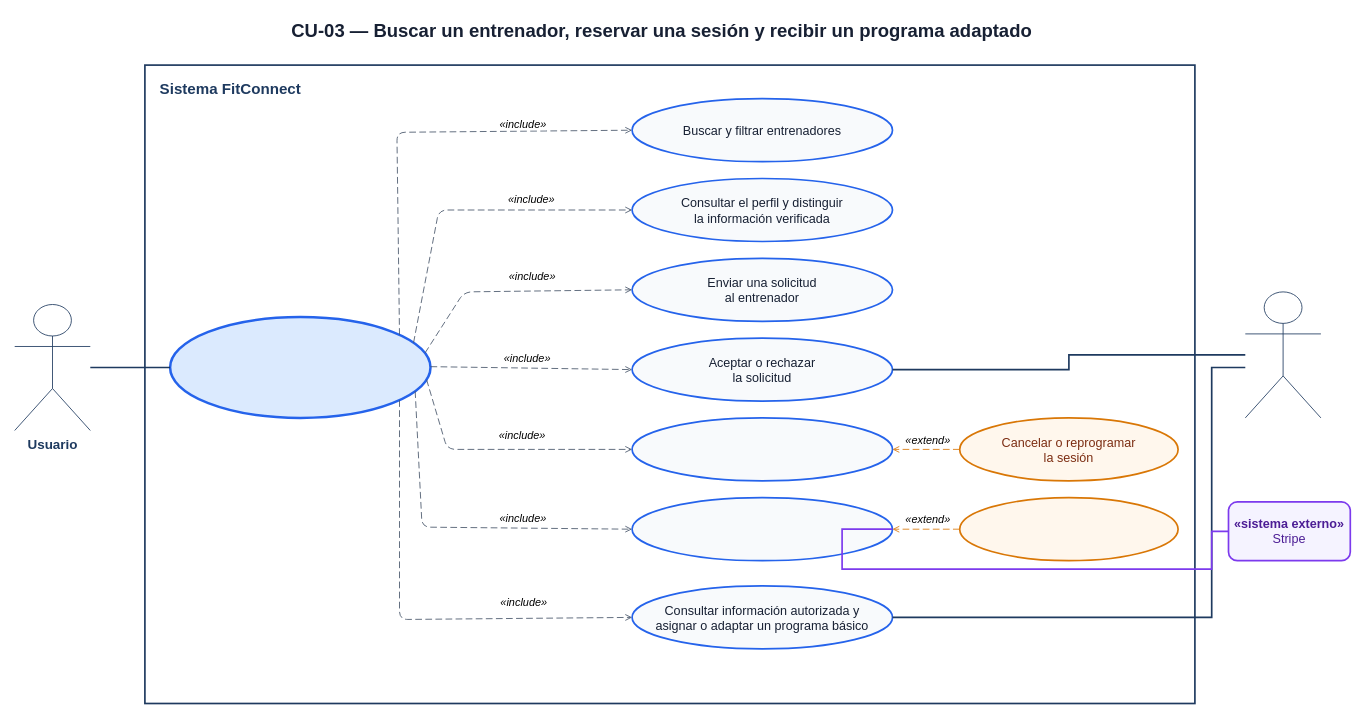
The diagram is 1366 pixels wide and 718 high, and some of its shapes have lost their labels. Here are the shapes that lost their labels. From the top down, the box of each, then its label:
(168, 315, 431, 419): Buscar un entrenador, reservar una sesión y recibir un programa adaptado
(1244, 291, 1321, 418): Entrenador
(631, 417, 893, 481): Seleccionar disponibilidad y reservar una sesión
(631, 496, 893, 561): Mostrar el importe y la comisión y procesar el pago
(958, 496, 1179, 561): Procesar un reembolso
